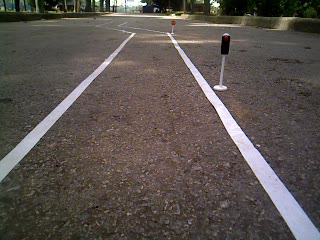Red: (219, 30, 232, 59)
